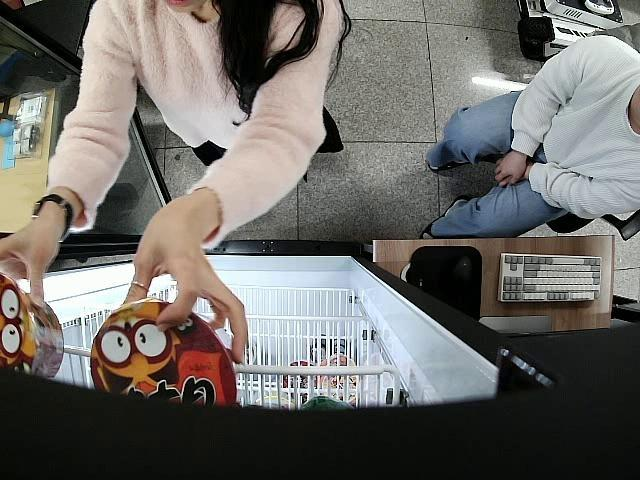05_nuguri_L: (90, 298, 240, 408), (0, 268, 65, 377)
